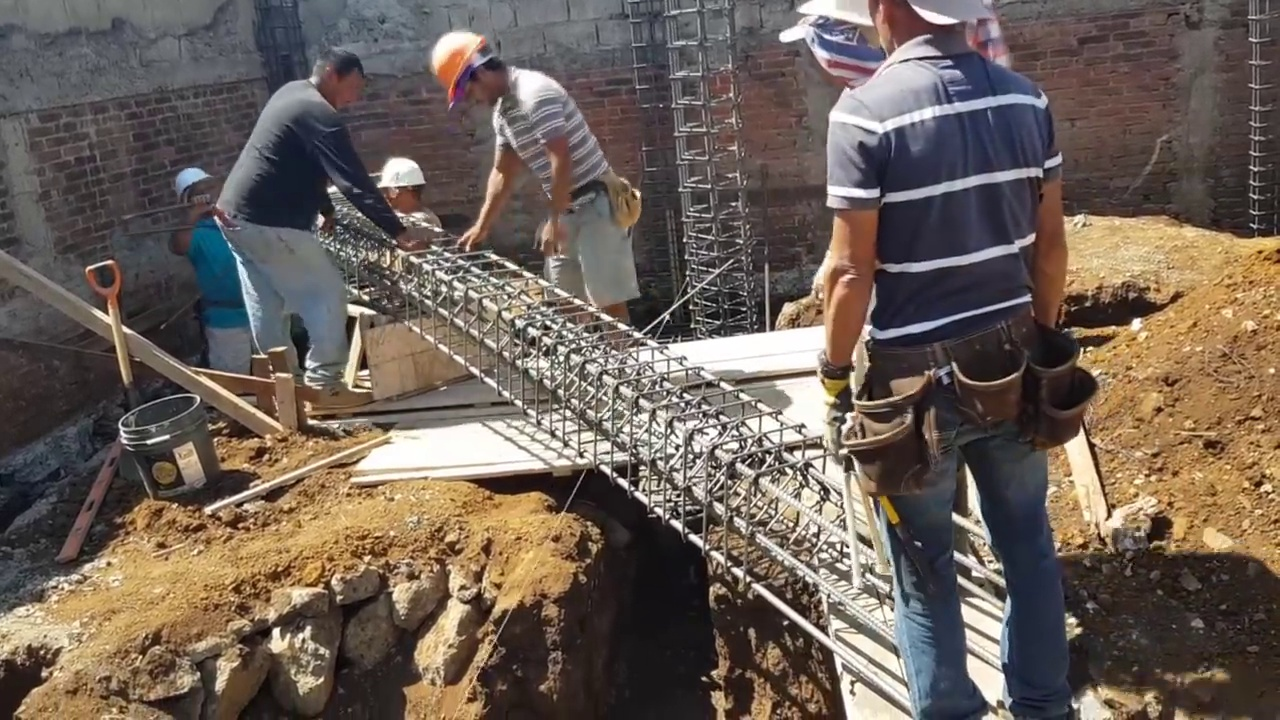helmet: (429, 31, 491, 103), (796, 0, 874, 33), (378, 155, 429, 190), (176, 169, 212, 205)
helmet-off: (869, 0, 990, 66), (304, 49, 362, 112)
helmet-on: (793, 0, 888, 92), (431, 31, 516, 116), (174, 165, 221, 227), (382, 156, 428, 215)
person: (817, 0, 1083, 720), (220, 47, 386, 404), (430, 32, 639, 302), (169, 162, 258, 377), (375, 153, 441, 250)
